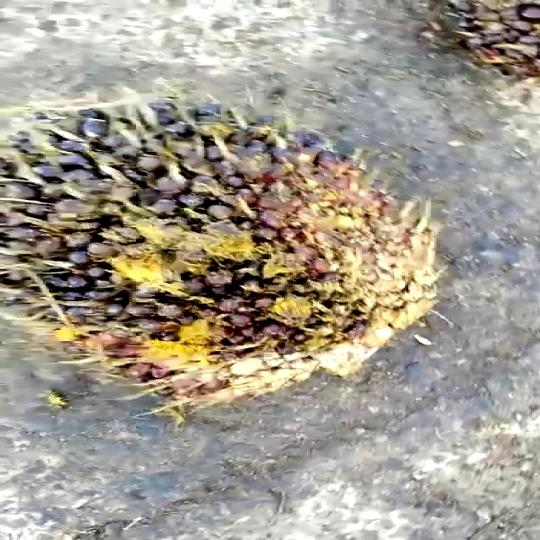mentah: (0, 85, 459, 410)
